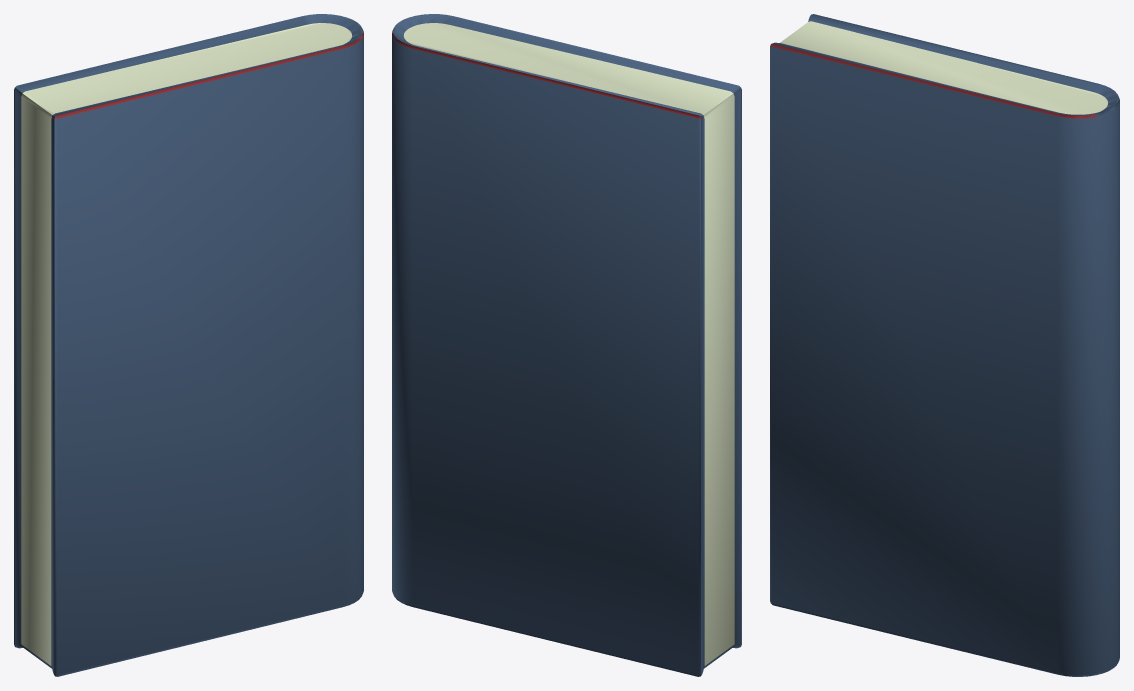
File: book.glb
3 renders of one model, left to right at view 1: azimuth 30°, elevation 25°; view 2: azimuth 150°, elevation 25°; view 3: azimuth 330°, elevation 25°, orthographic.
Visible parts, largest first — view 1: Cylinder.002; view 2: Cylinder.002; view 3: Cylinder.002.
Part boxes in pixels (x1,y1,x2,y2): Cylinder.002: (14,14,363,676); Cylinder.002: (392,14,741,676); Cylinder.002: (770,14,1119,676).
Bounding box in the file's own units: 0.6436 × 1.07 × 0.1439.
